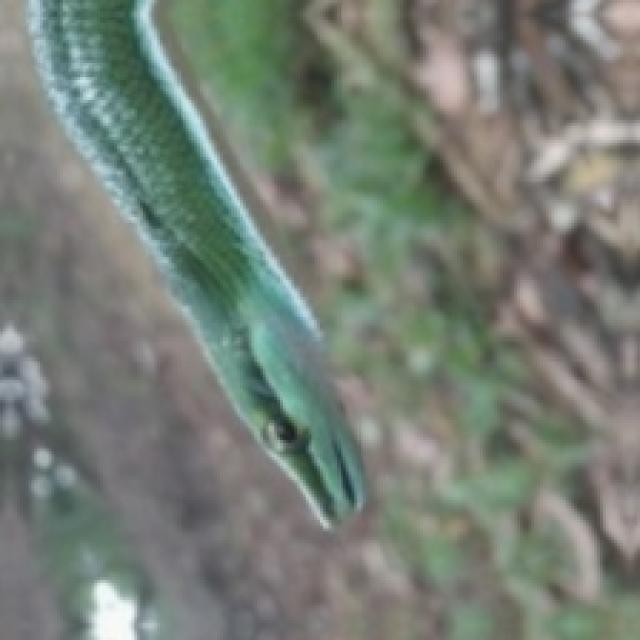red-tailed green ratsnake: (29, 0, 363, 520)
